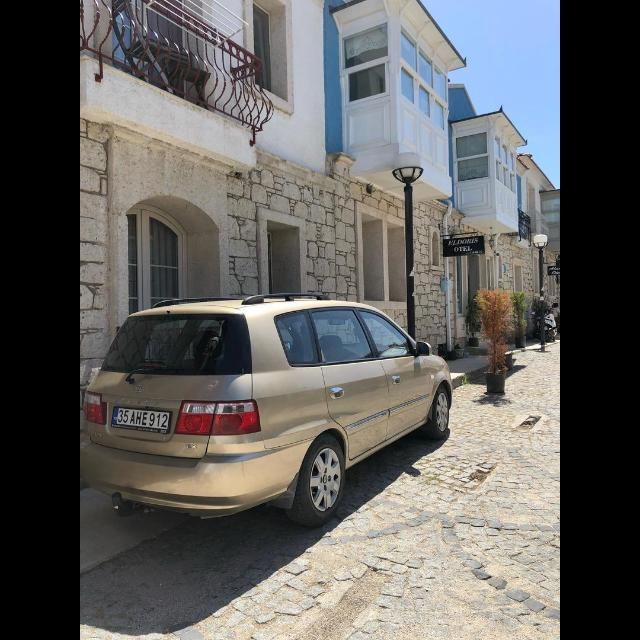Plaka: (112, 408, 168, 430)
